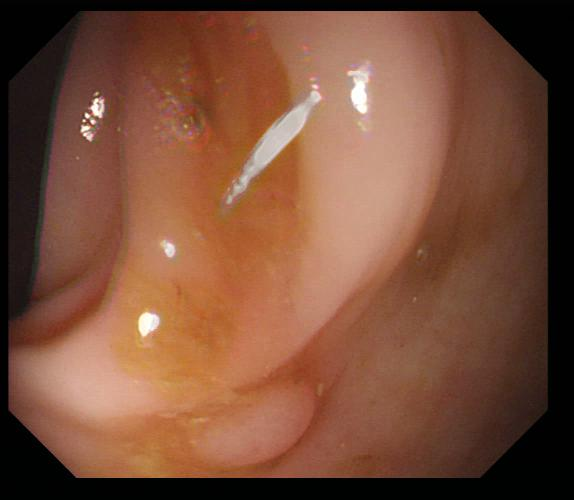polyp: (188, 376, 323, 471)
